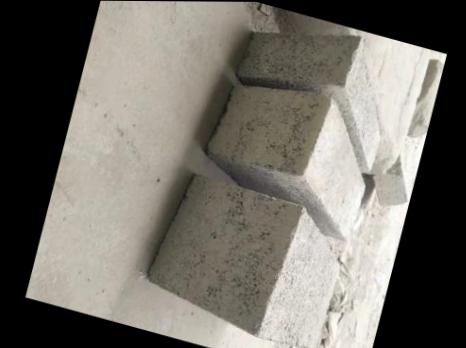brick: (136, 169, 304, 340), (202, 70, 333, 181), (235, 10, 361, 99)
